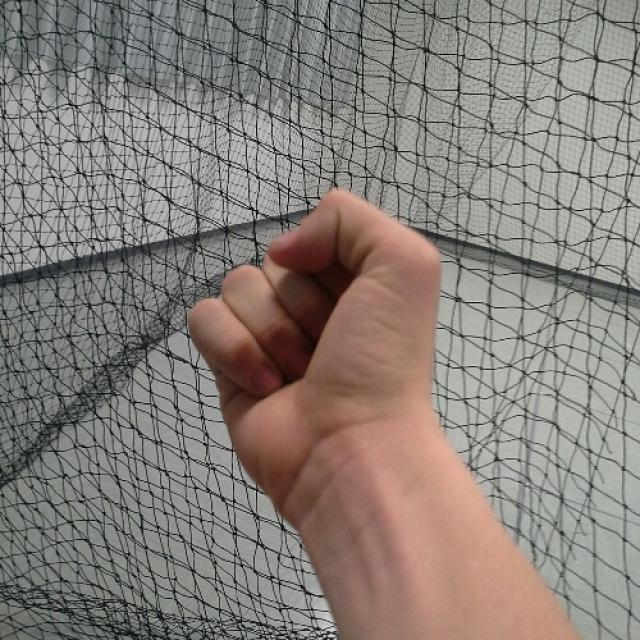rock: (188, 185, 444, 478)
